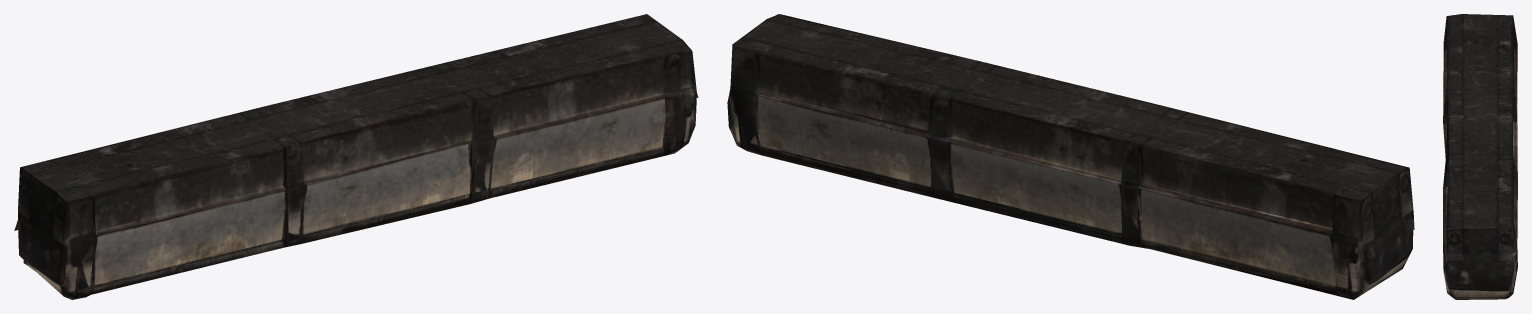
Rendered from light-lod2.glb.
3 views of the same model, side by side, from view 1: azimuth 30°, elevation 25°; view 2: azimuth 150°, elevation 25°; view 3: azimuth 270°, elevation 25° (orthographic). The views are drawn at different scales.
Parts seen in each view (by area): view 1: light; view 2: light; view 3: light.
Boxes of the visible parts, x1=… form: light: x1=14, y1=14, x2=698, y2=299; light: x1=727, y1=14, x2=1414, y2=299; light: x1=1443, y1=14, x2=1517, y2=299.
Size of the model in its own units: 1.2 by 0.1925 by 0.1722.
1 material, 1 textured.
